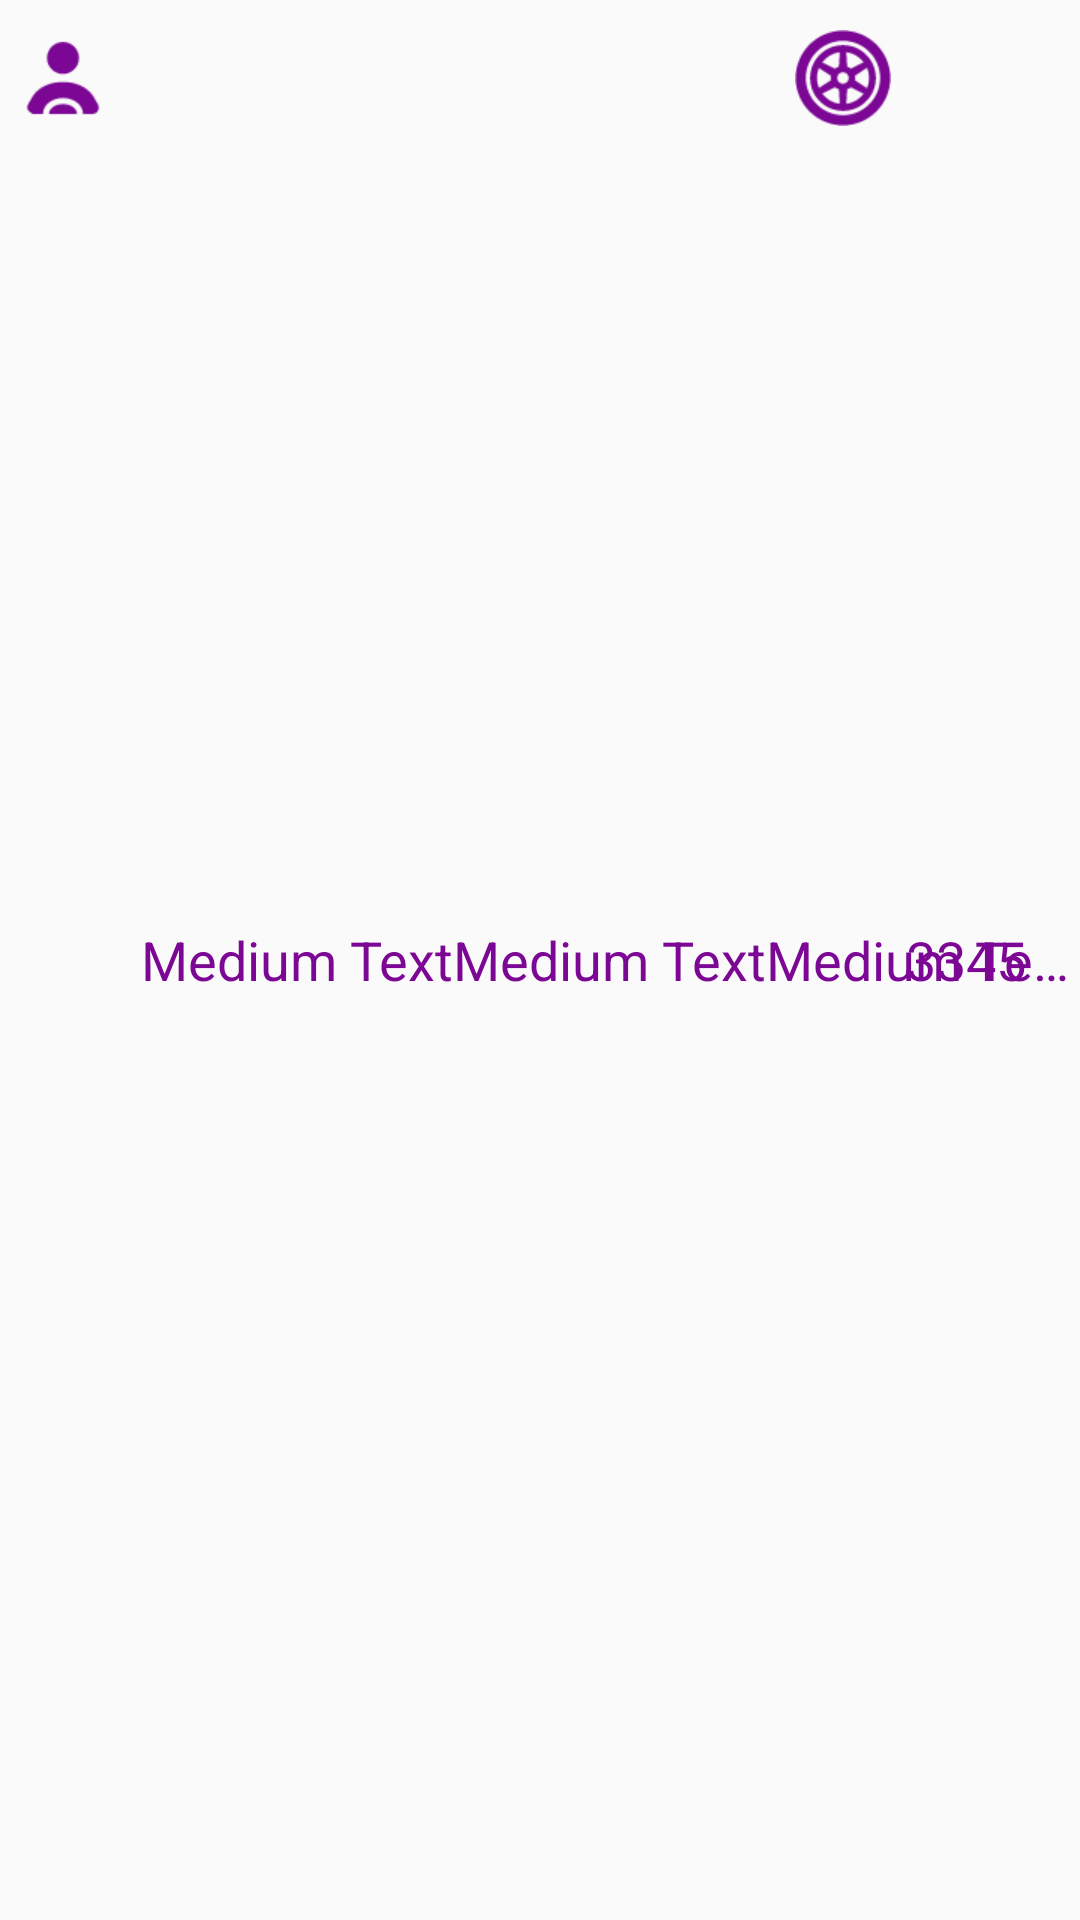

Icons on this 1080px×1920px Android screen, each with its box as (x1, y1, x2, y2):
driver: (26, 41, 100, 115)
wheel: (795, 30, 891, 126)
